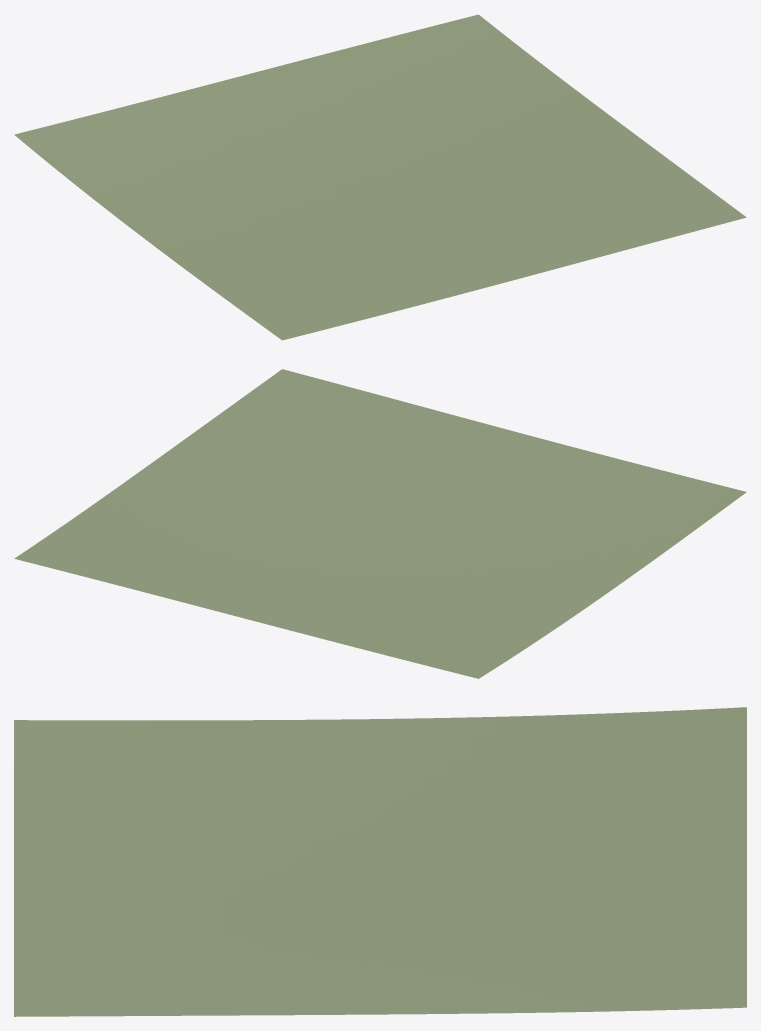
Rendered from desert-23-24.glb.
3 renders of one model, top to bottom at view 1: azimuth 30°, elevation 25°; view 2: azimuth 150°, elevation 25°; view 3: azimuth 270°, elevation 25°, orthographic. The views are drawn at different scales.
Parts seen in each view (by area): view 1: desert-23-24; view 2: desert-23-24; view 3: desert-23-24.
Boxes of the visible parts, x1,y1,x2,y2 form: desert-23-24: [14, 14, 746, 340]; desert-23-24: [14, 369, 746, 678]; desert-23-24: [14, 707, 746, 1016].
Bounding box in the file's own units: 512 × 17.33 × 512.
